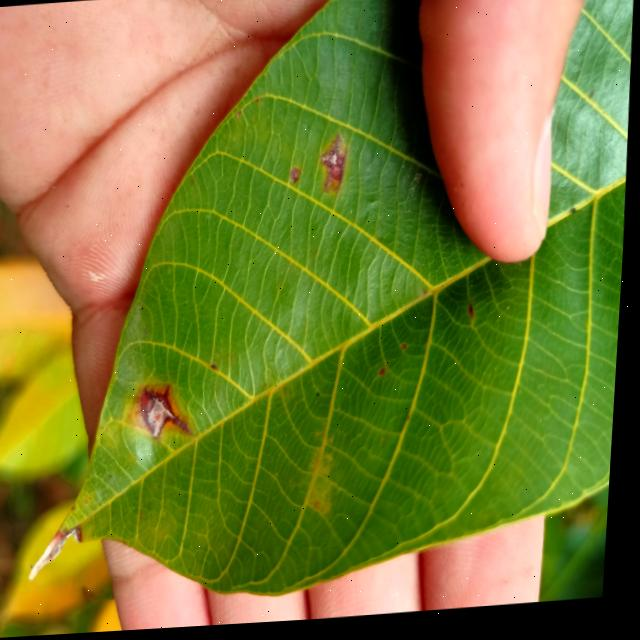Corynespora: (140, 384, 200, 442)
Leaf-Blight: (34, 526, 90, 580), (152, 402, 174, 436)
